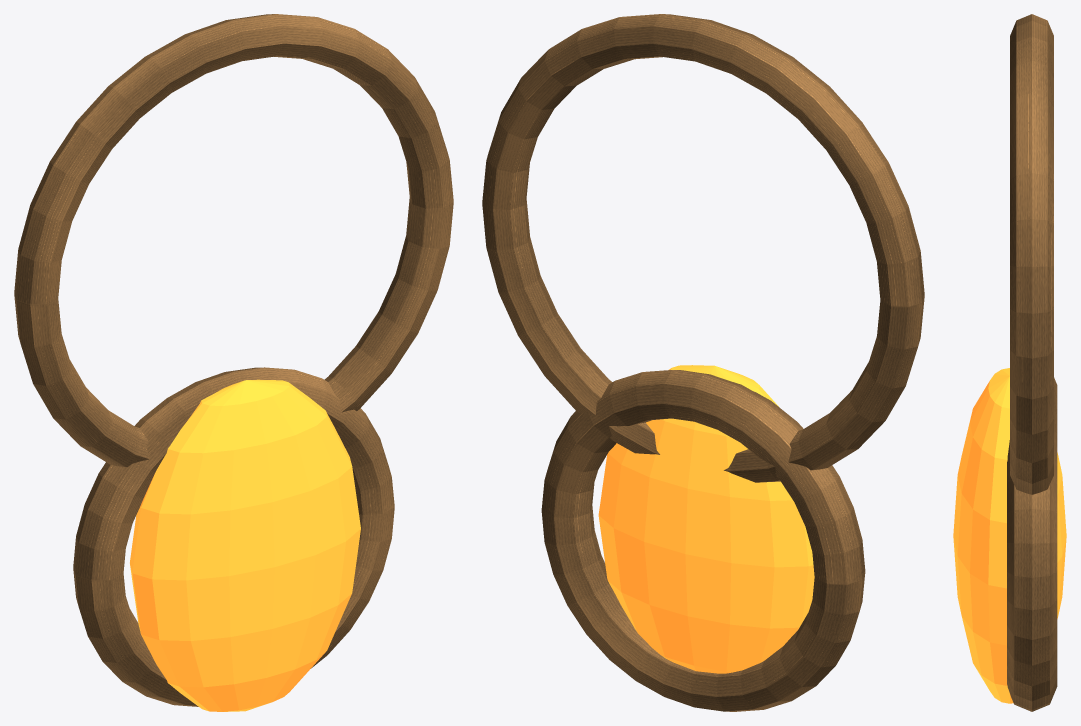
File: amulet.glb
3 views of the same model, side by side, from view 1: azimuth 30°, elevation 25°; view 2: azimuth 150°, elevation 25°; view 3: azimuth 270°, elevation 25° (orthographic). The views are drawn at different scales.
Visible parts, largest first — view 1: amulet; view 2: amulet; view 3: amulet.
Boxes of the visible parts, bbox=[...] form: amulet: bbox=[14, 14, 453, 711]; amulet: bbox=[482, 14, 924, 711]; amulet: bbox=[953, 14, 1066, 711].
Bounding box in the file's own units: 0.77 × 1.15 × 0.18.
Materials: 2 (1 with a texture image).
